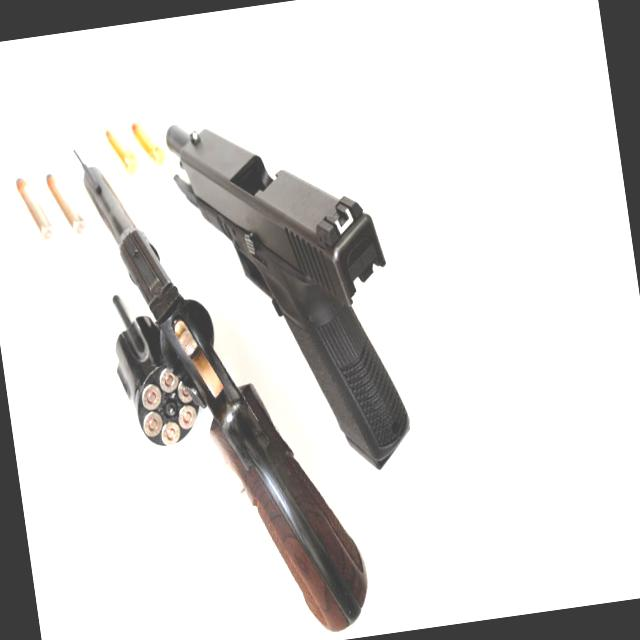handgun: (68, 114, 375, 639), (160, 94, 417, 493)
